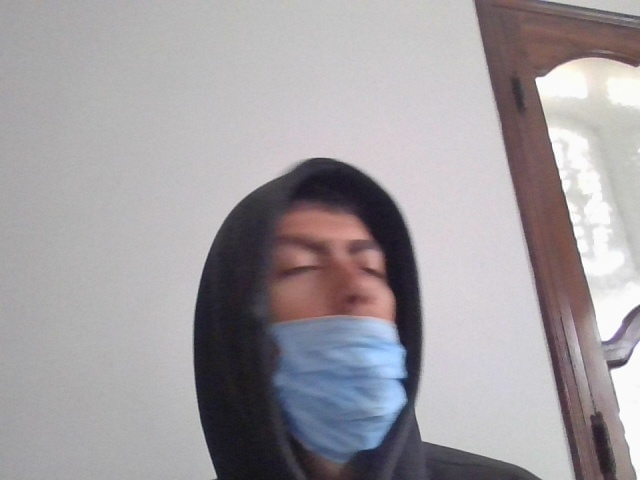mask_weared_incorrect: (253, 192, 431, 472)
